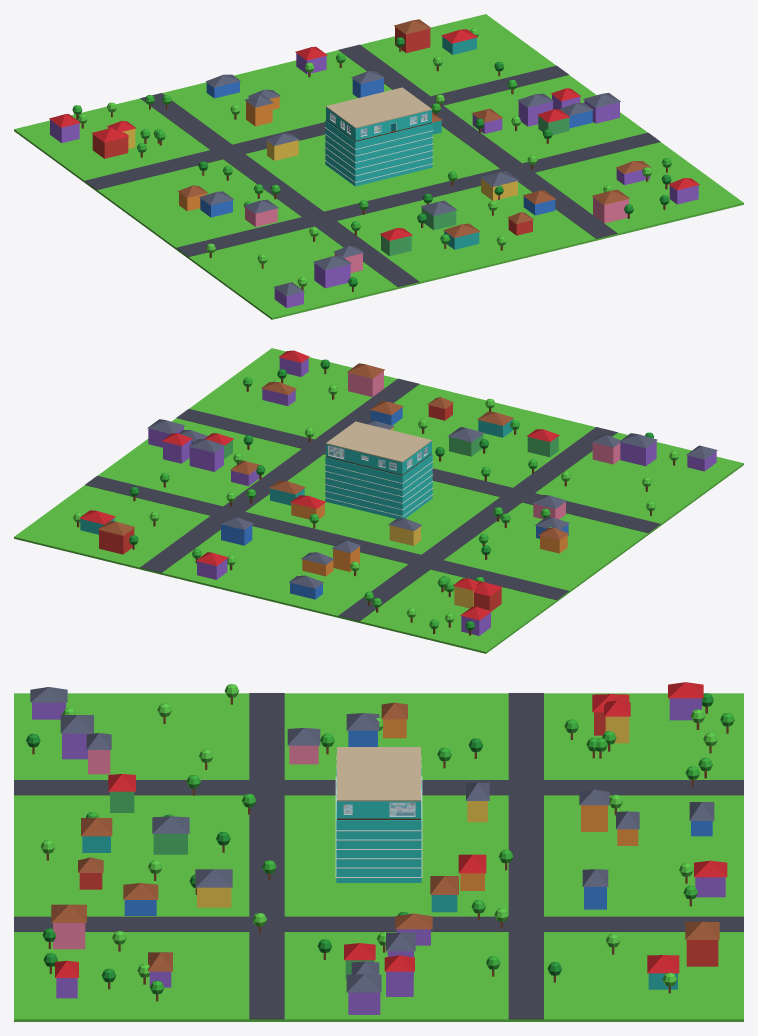
File: MistressFlat4.fbx
3 renders of one model, top to bottom at view 1: azimuth 30°, elevation 25°; view 2: azimuth 150°, elevation 25°; view 3: azimuth 270°, elevation 25°, orthographic. The views are drawn at different scales.
Parts seen in each view (by area): view 1: View_Grass_0_0_00, View_Asphalt_-1_0_00, View_Asphalt_0_-1_00, View_Asphalt_1_0_00, View_Turq_0_0_00, View_Asphalt_0_1_00, FlatCeil_Ceiling_0_0_00, View_HousePurple_-2_-2_00, View_White_0_0_00, View_HousePurple_1_0_00, View_RoofRed_-2_1_00, FlatWalls_Turq_0_-1_00 (+11 smaller); view 2: View_Grass_0_0_00, View_Asphalt_0_1_00, View_Asphalt_-1_0_00, View_Turq_0_0_00, View_Asphalt_1_0_00, View_Asphalt_0_-1_00, FlatCeil_Ceiling_0_0_00, View_HousePurple_-2_-2_00, View_HousePurple_1_0_00, View_White_0_0_00, View_HousePurple_2_0_00, View_RoofRed_-2_1_00 (+11 smaller); view 3: View_Grass_0_0_00, View_Asphalt_0_1_00, View_Asphalt_0_-1_00, View_Asphalt_1_0_00, View_Asphalt_-1_0_00, View_Turq_0_0_00, FlatCeil_Ceiling_0_0_00, View_HousePurple_2_0_00, View_RoofRed_-2_1_00, View_RoofGrey_0_-1_00, View_RoofBrown_1_-2_00, View_HousePurple_-2_-2_00 (+27 smaller).
Boxes of the visible parts, box(x1,y1,x2,y2) form: View_Grass_0_0_00: box(14, 14, 743, 319); View_Asphalt_-1_0_00: box(140, 93, 419, 287); View_Asphalt_0_-1_00: box(176, 132, 660, 256); View_Asphalt_1_0_00: box(338, 44, 617, 238); View_Turq_0_0_00: box(325, 120, 432, 186); View_Asphalt_0_1_00: box(85, 65, 568, 189); FlatCeil_Ceiling_0_0_00: box(326, 87, 431, 128); View_HousePurple_-2_-2_00: box(274, 263, 350, 307); View_White_0_0_00: box(324, 127, 433, 182); View_HousePurple_1_0_00: box(472, 101, 552, 133); View_RoofRed_-2_1_00: box(49, 113, 135, 142); FlatWalls_Turq_0_-1_00: box(355, 110, 431, 140); View_Grass_0_0_00: box(14, 348, 743, 653); View_Asphalt_0_1_00: box(85, 475, 568, 600); View_Asphalt_-1_0_00: box(338, 427, 617, 621); View_Turq_0_0_00: box(325, 454, 432, 518); View_Asphalt_1_0_00: box(140, 378, 419, 572); View_Asphalt_0_-1_00: box(176, 409, 660, 532); FlatCeil_Ceiling_0_0_00: box(326, 421, 431, 462); View_HousePurple_-2_-2_00: box(620, 441, 716, 471); View_HousePurple_1_0_00: box(189, 447, 259, 485); View_White_0_0_00: box(324, 461, 433, 516); View_HousePurple_2_0_00: box(148, 427, 191, 463); View_RoofRed_-2_1_00: box(453, 578, 502, 620); View_Grass_0_0_00: box(14, 693, 743, 1021); View_Asphalt_0_1_00: box(508, 693, 543, 1019); View_Asphalt_0_-1_00: box(249, 693, 284, 1019); View_Asphalt_1_0_00: box(14, 916, 743, 931); View_Asphalt_-1_0_00: box(14, 780, 743, 795); View_Turq_0_0_00: box(336, 767, 421, 882); FlatCeil_Ceiling_0_0_00: box(337, 747, 420, 801); View_HousePurple_2_0_00: box(348, 971, 413, 1014); View_RoofRed_-2_1_00: box(592, 682, 703, 716); View_RoofGrey_0_-1_00: box(152, 816, 232, 887); View_RoofBrown_1_-2_00: box(51, 883, 158, 922); View_HousePurple_-2_-2_00: box(32, 702, 91, 759).
Bounding box in the file's own units: 524 × 64 × 496.
